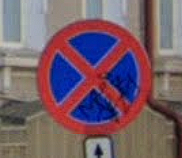oprirea_interzisa: (37, 18, 152, 135)
